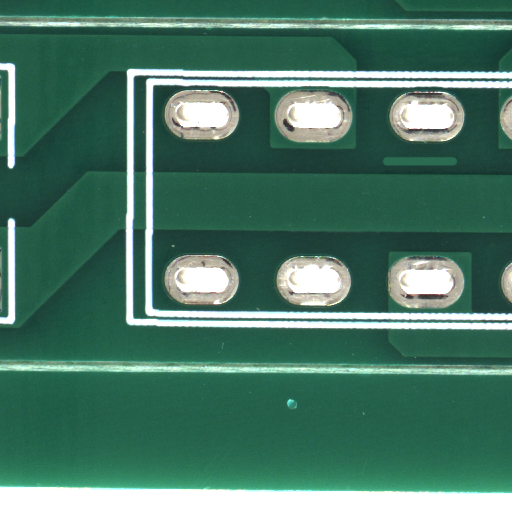Spurious_copper: (419, 160, 496, 174)
